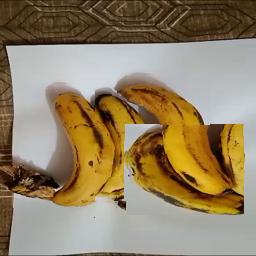Banana Semifresh: (13, 82, 118, 208), (118, 73, 211, 199), (127, 124, 245, 215), (95, 82, 148, 202)
